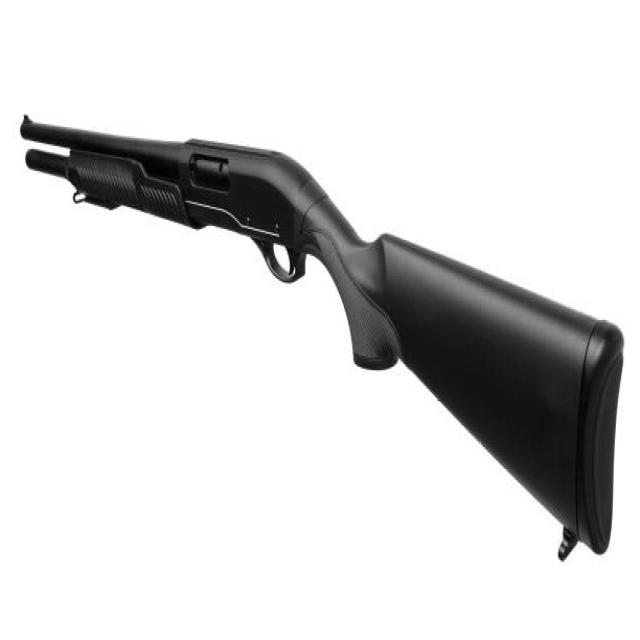rifle: (20, 104, 629, 577)
